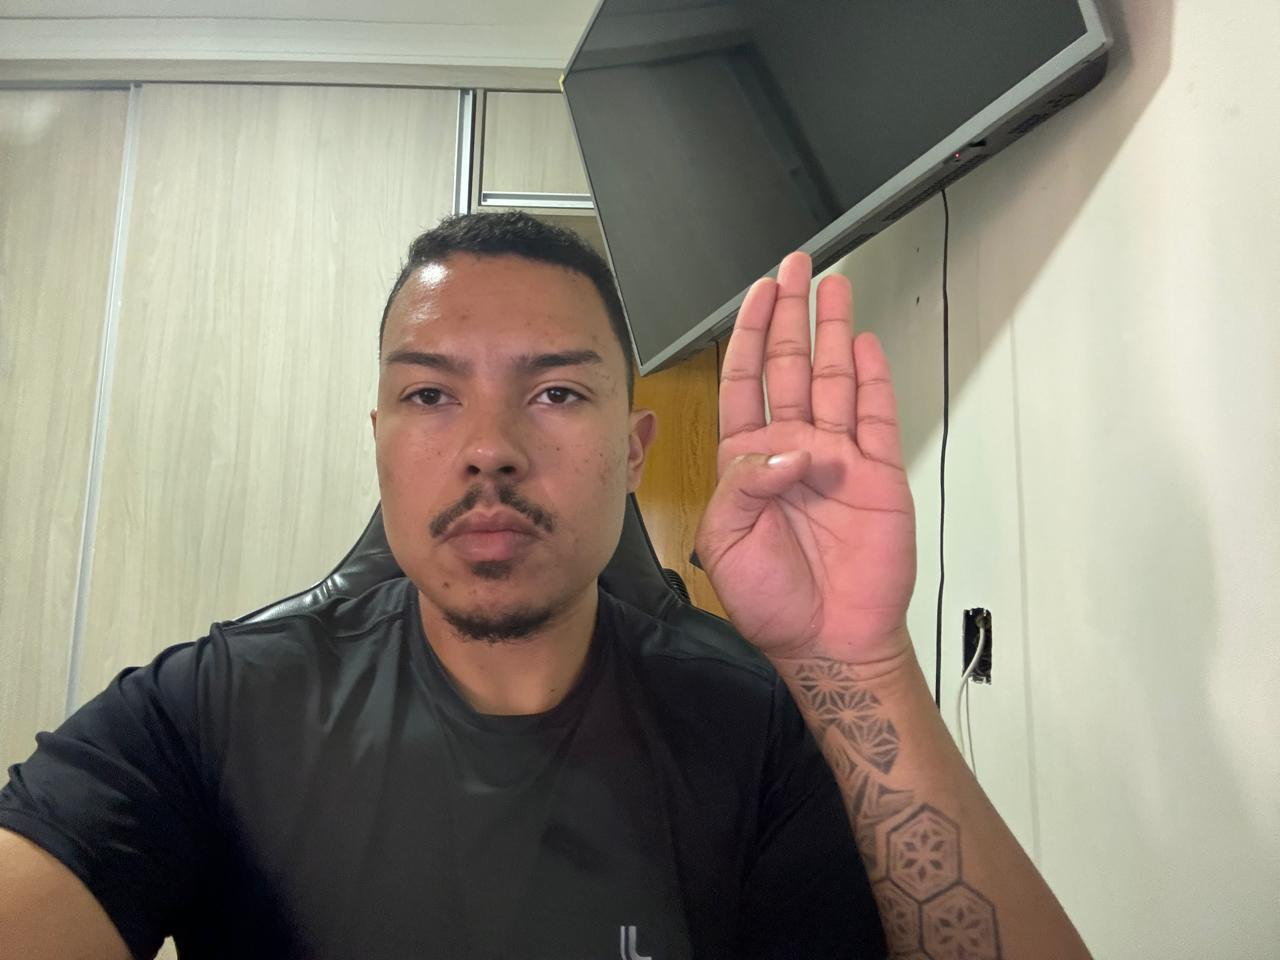b: (694, 246, 943, 680)
